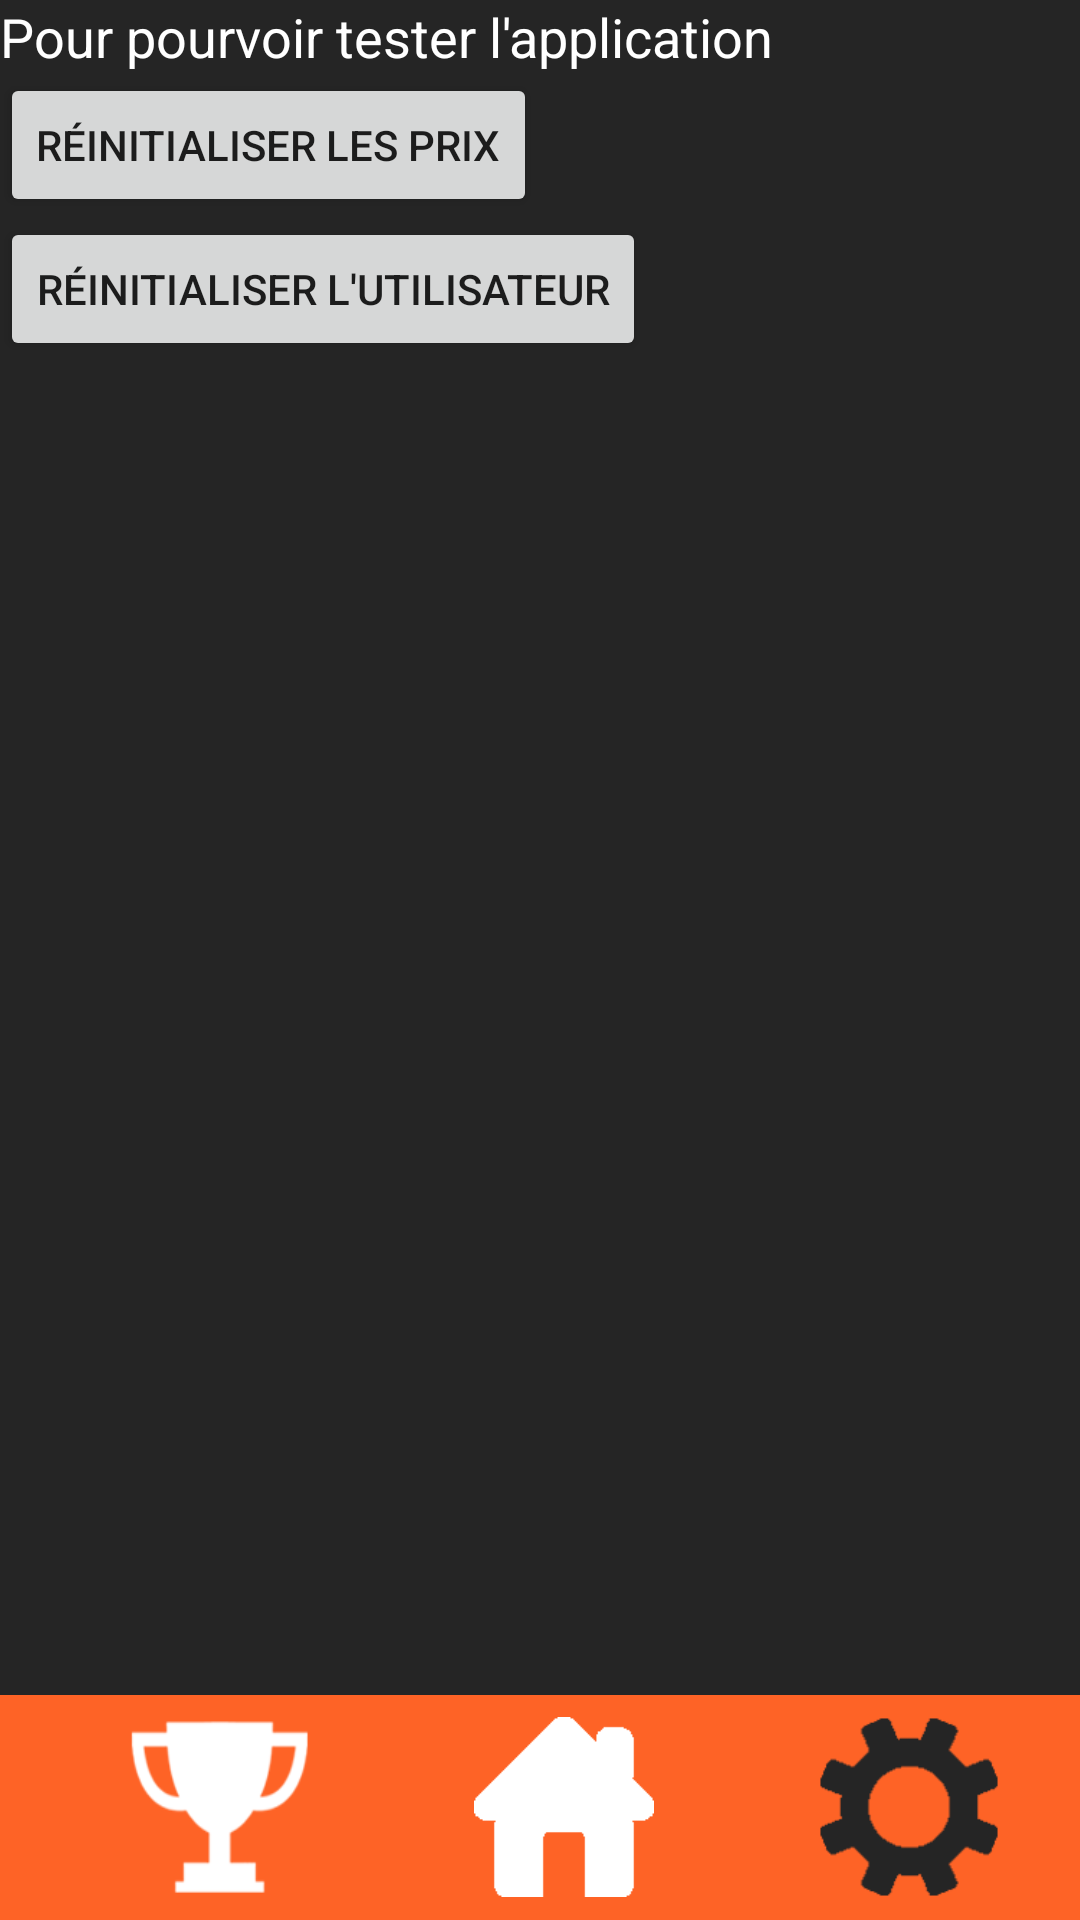

Icon bounding boxes for this 1080w x 1920h phone screenshot, format {"x1": x1, "y1": y1, "x2": x2, "y2": y2}:
house: {"x1": 474, "y1": 1717, "x2": 654, "y2": 1897}
prize: {"x1": 131, "y1": 1721, "x2": 308, "y2": 1893}
setting: {"x1": 820, "y1": 1718, "x2": 998, "y2": 1896}
